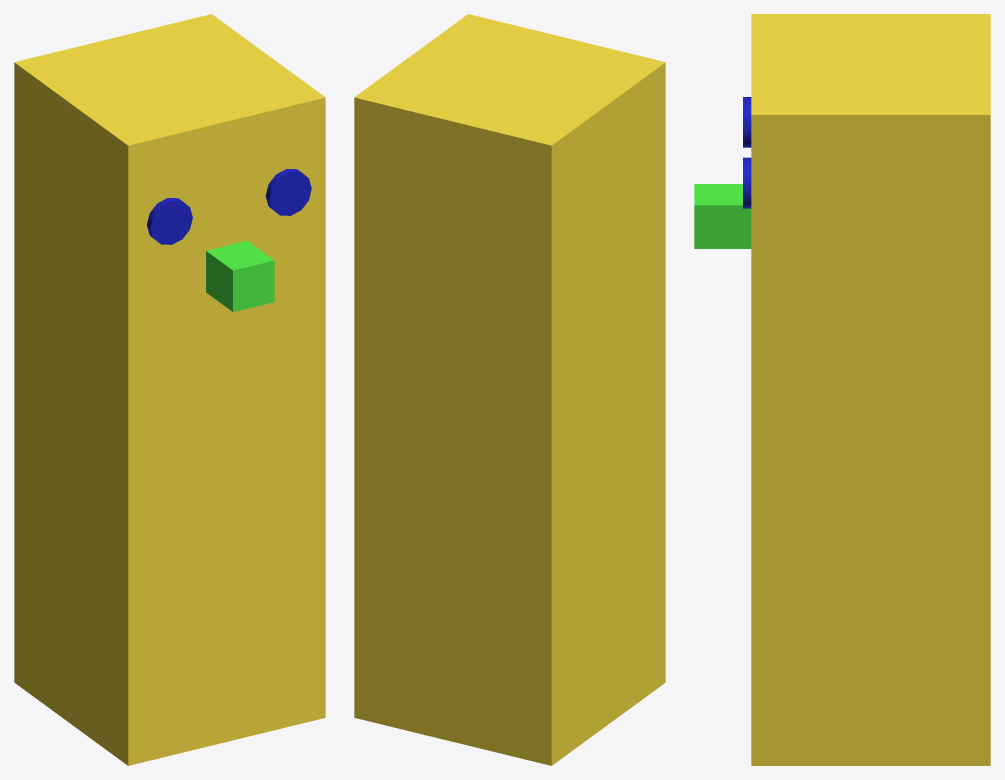
Rendered from body_enemy.FBX.
3 views of the same model, side by side, from view 1: azimuth 30°, elevation 25°; view 2: azimuth 150°, elevation 25°; view 3: azimuth 270°, elevation 25° (orthographic). The views are drawn at different scales.
Parts seen in each view (by area): view 1: body; view 2: body; view 3: body.
Boxes of the visible parts, bbox=[...] form: body: bbox=[14, 14, 325, 765]; body: bbox=[354, 14, 665, 765]; body: bbox=[694, 14, 990, 765].
Bounding box in the file's own units: 50 × 150 × 61.88.
